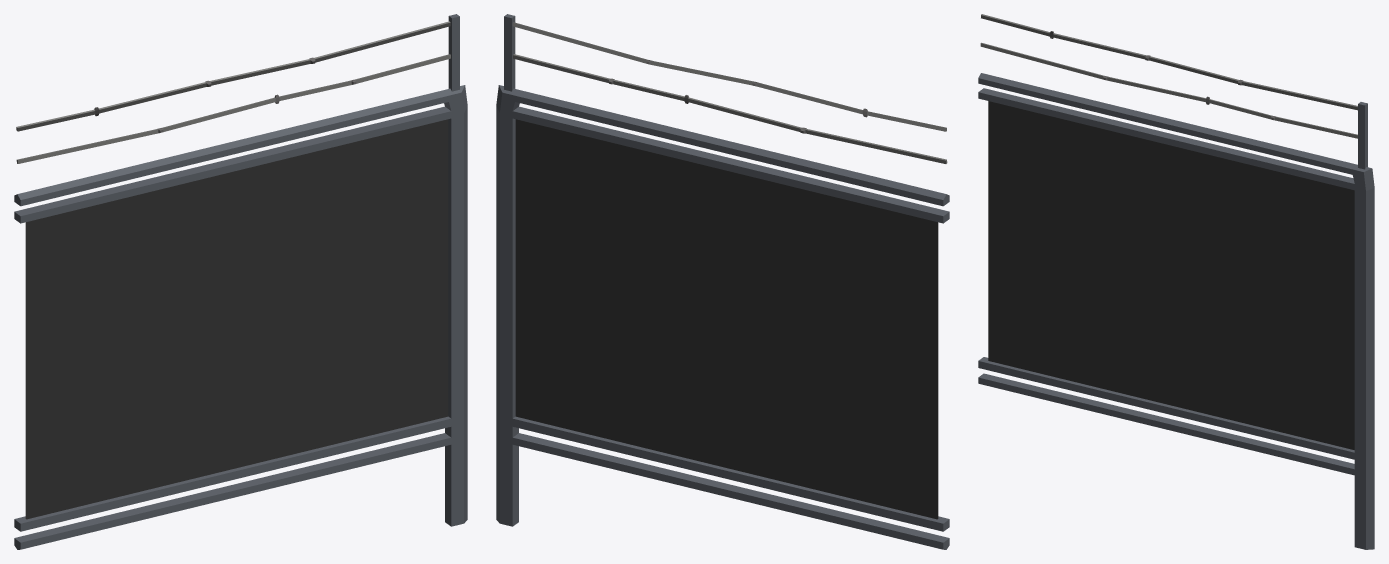
The model's file is SM_Prop_Fence_03.fbx.
The picture shows the model from 3 angles, left to right: view 1: azimuth 30°, elevation 25°; view 2: azimuth 150°, elevation 25°; view 3: azimuth 330°, elevation 25°; orthographic projection. The views are drawn at different scales.
Parts seen in each view (by area): view 1: SM_Prop_Fence_03; view 2: SM_Prop_Fence_03; view 3: SM_Prop_Fence_03.
Boxes of the visible parts, x1,y1,x2,y2 form: SM_Prop_Fence_03: (14,14,467,549); SM_Prop_Fence_03: (496,14,949,549); SM_Prop_Fence_03: (978,14,1374,549).
Size of the model in its own units: 296 by 319 by 7.24.
